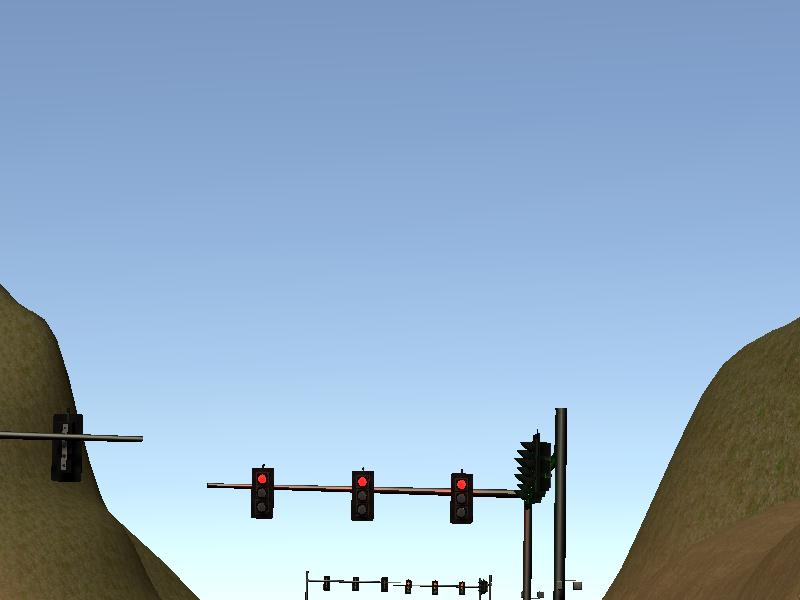Red: (449, 473, 473, 524), (351, 471, 373, 521), (251, 469, 273, 518)
